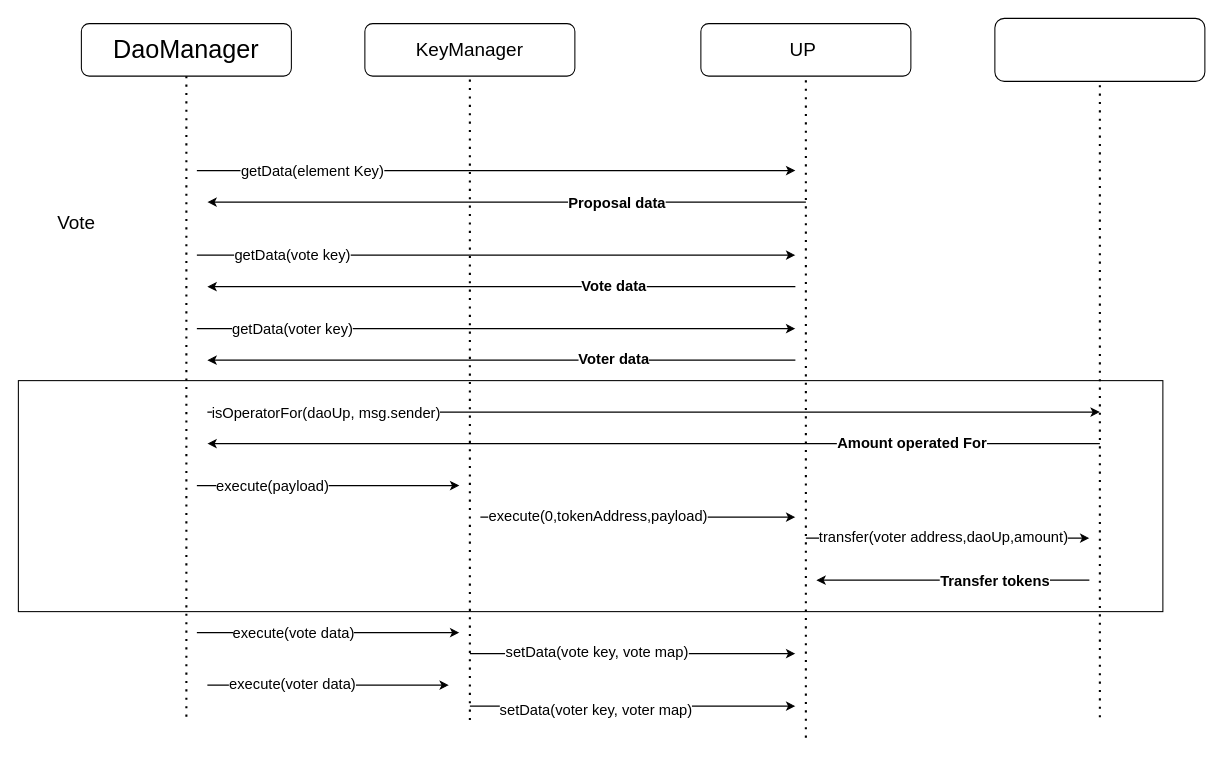
The diagram is 1223 pixels wide and 758 high, and some of its shapes have lost their labels. Here are the shapes that lost their labels. From the top down, the centre of each, then its label:
At (x=1099, y=49): "LSP7DigitalAsset Governance Token".
At (x=590, y=496): "Only for weighted voting".
